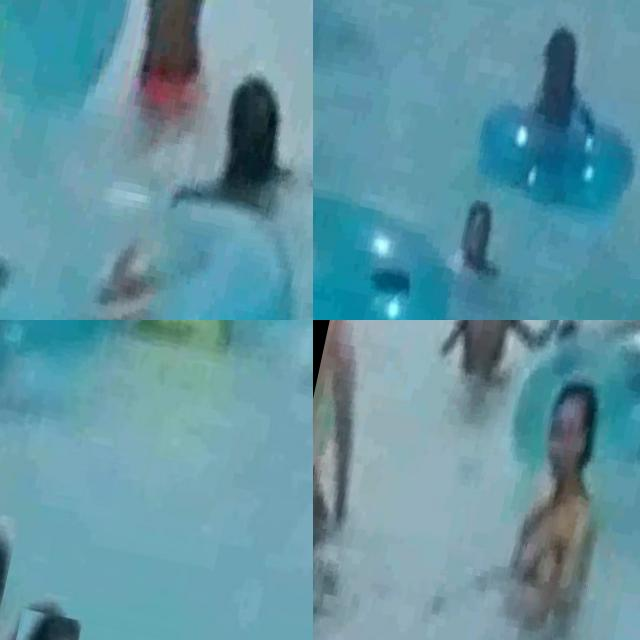drowning: (156, 34, 313, 252), (415, 169, 536, 306), (0, 505, 19, 619)
swimming: (484, 369, 640, 640), (313, 320, 406, 638), (482, 10, 640, 177), (438, 320, 579, 420)
